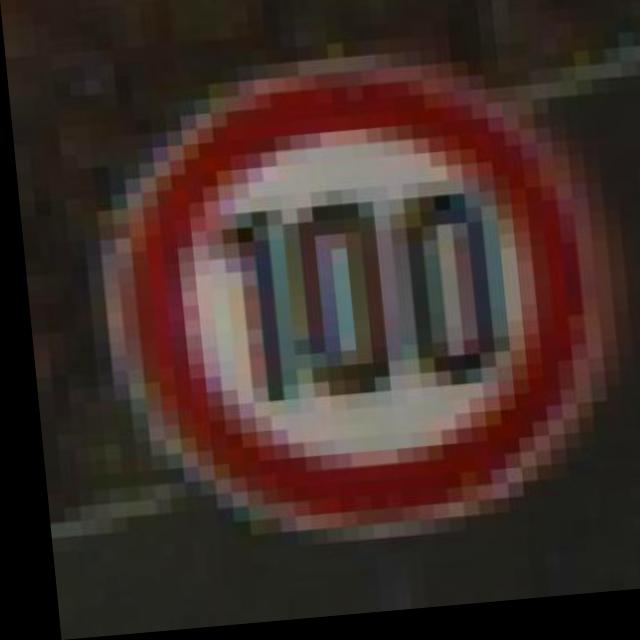limit100: (57, 36, 635, 579)
